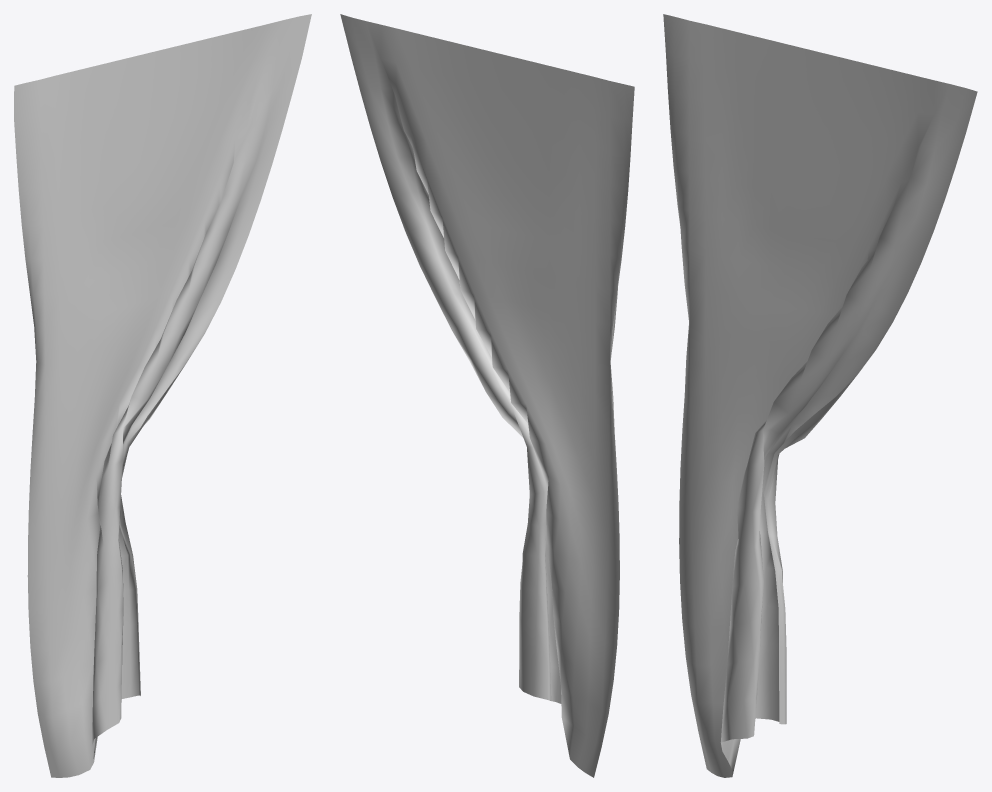
3 views of the same model, side by side, from view 1: azimuth 30°, elevation 25°; view 2: azimuth 150°, elevation 25°; view 3: azimuth 330°, elevation 25° (orthographic). The views are drawn at different scales.
Parts seen in each view (by area): view 1: CurtainLeftWhite; view 2: CurtainLeftWhite; view 3: CurtainLeftWhite.
Boxes of the visible parts, box(x1,y1,x2,y2) form: CurtainLeftWhite: box(14, 14, 311, 777); CurtainLeftWhite: box(340, 14, 634, 777); CurtainLeftWhite: box(663, 14, 977, 777).
Size of the model in its own units: 0.874 by 1.98 by 0.0844.
Materials: 1 (1 with a texture image).
